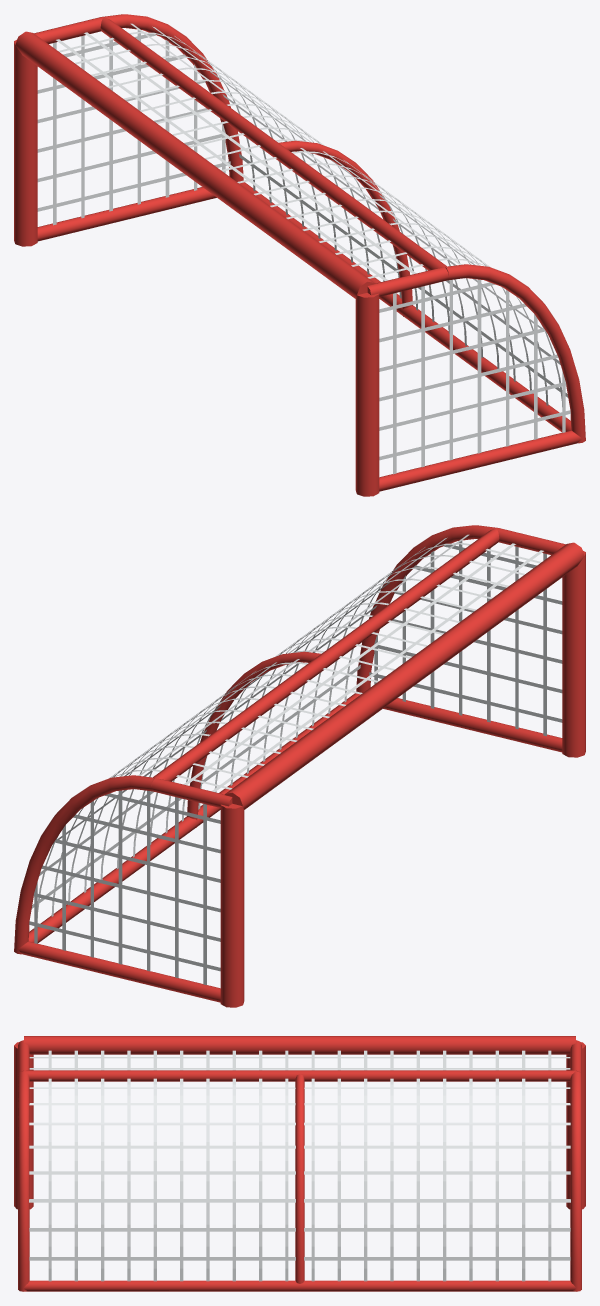
The model's file is net.glb.
3 renders of one model, top to bottom at view 1: azimuth 30°, elevation 25°; view 2: azimuth 150°, elevation 25°; view 3: azimuth 270°, elevation 25°, orthographic. The views are drawn at different scales.
Parts seen in each view (by area): view 1: net_frame, net_mesh; view 2: net_frame, net_mesh; view 3: net_frame, net_mesh.
Part boxes in pixels (x1=…): net_frame: x1=14, y1=14, x2=585, y2=496; net_mesh: x1=37, y1=23, x2=570, y2=474; net_frame: x1=14, y1=525, x2=585, y2=1007; net_mesh: x1=29, y1=534, x2=562, y2=985; net_frame: x1=14, y1=1036, x2=585, y2=1291; net_mesh: x1=29, y1=1050, x2=570, y2=1281.
Size of the model in its own units: 1.62 by 1.44 by 4.35.
Materials: 2 (1 with a texture image).
